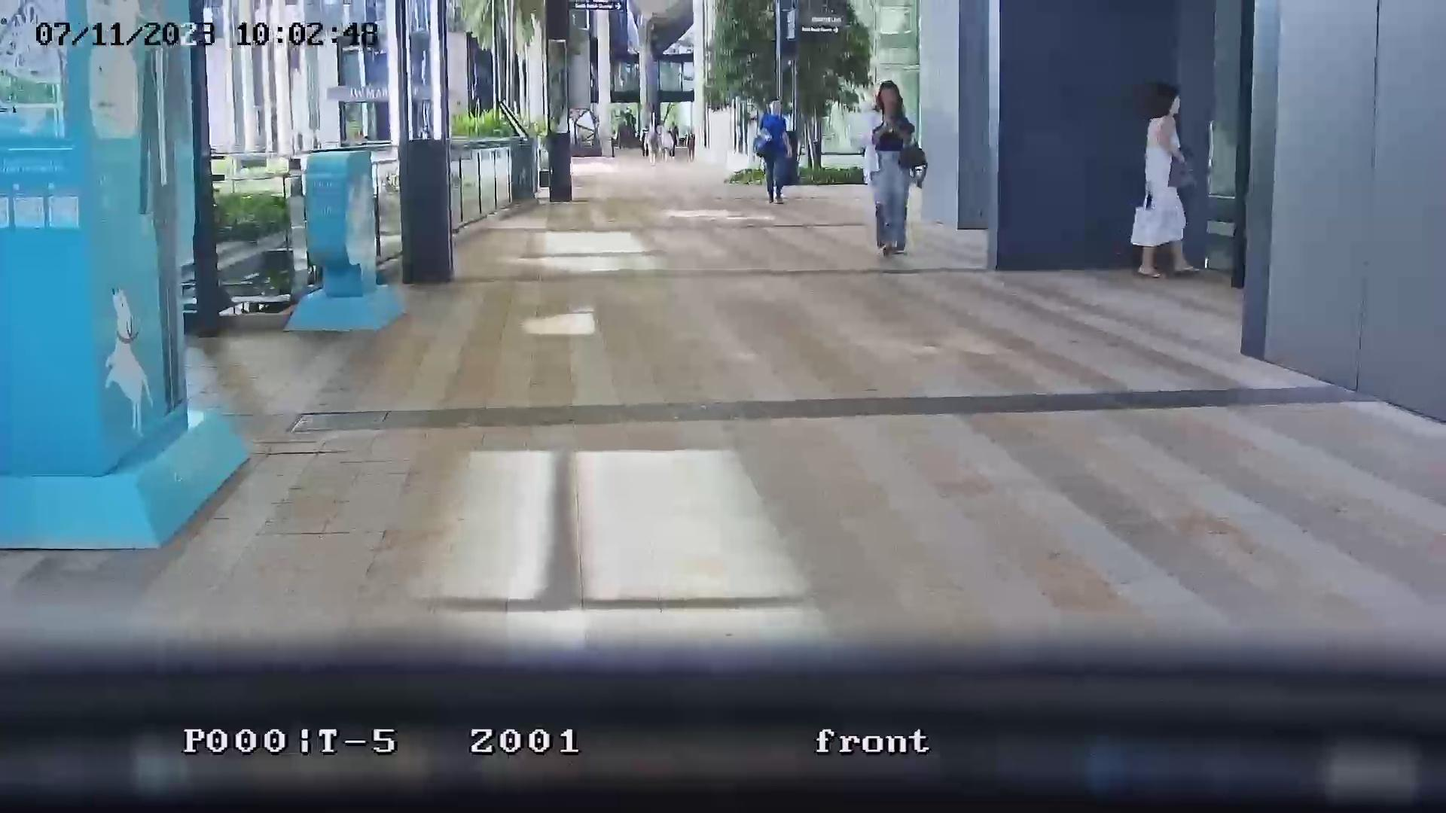person: (1130, 88, 1189, 279), (862, 77, 922, 257), (755, 99, 792, 203), (645, 126, 661, 166), (679, 124, 694, 160)
